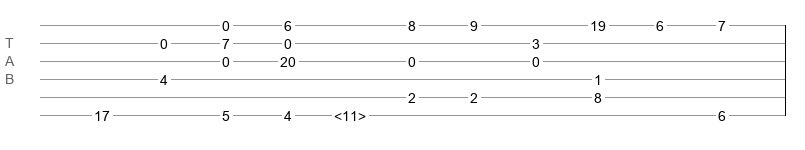0: (160, 36, 168, 46), (222, 18, 230, 28), (222, 54, 230, 64), (284, 36, 292, 46), (408, 54, 416, 64), (532, 54, 540, 64)
1: (594, 72, 602, 82)
17: (94, 108, 110, 118)
19: (590, 18, 606, 28)
2: (408, 90, 416, 100), (470, 90, 478, 100)
20: (280, 54, 296, 64)
3: (532, 36, 540, 46)
4: (160, 72, 168, 82), (284, 108, 292, 118)
5: (222, 108, 230, 118)
6: (284, 18, 292, 28), (656, 18, 664, 28), (718, 108, 726, 118)
7: (222, 36, 230, 46), (718, 18, 726, 28)
8: (408, 18, 416, 28), (594, 90, 602, 100)
9: (470, 18, 478, 28)
harmonic: (334, 108, 366, 118)
